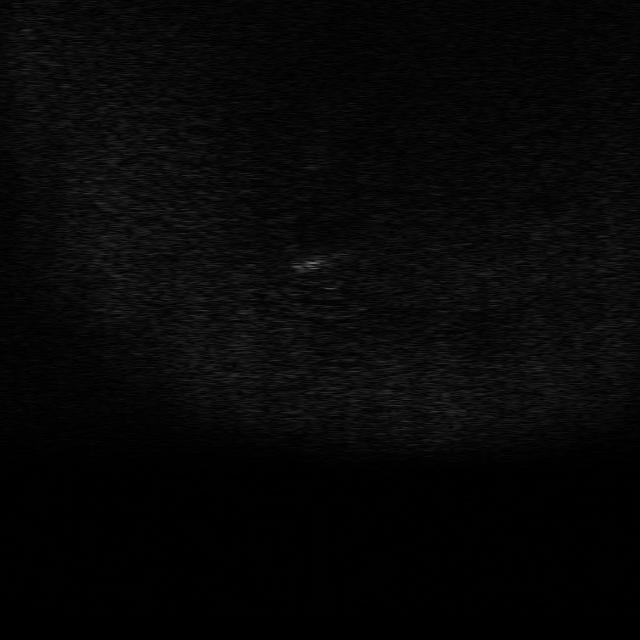plane: (284, 240, 356, 272)
